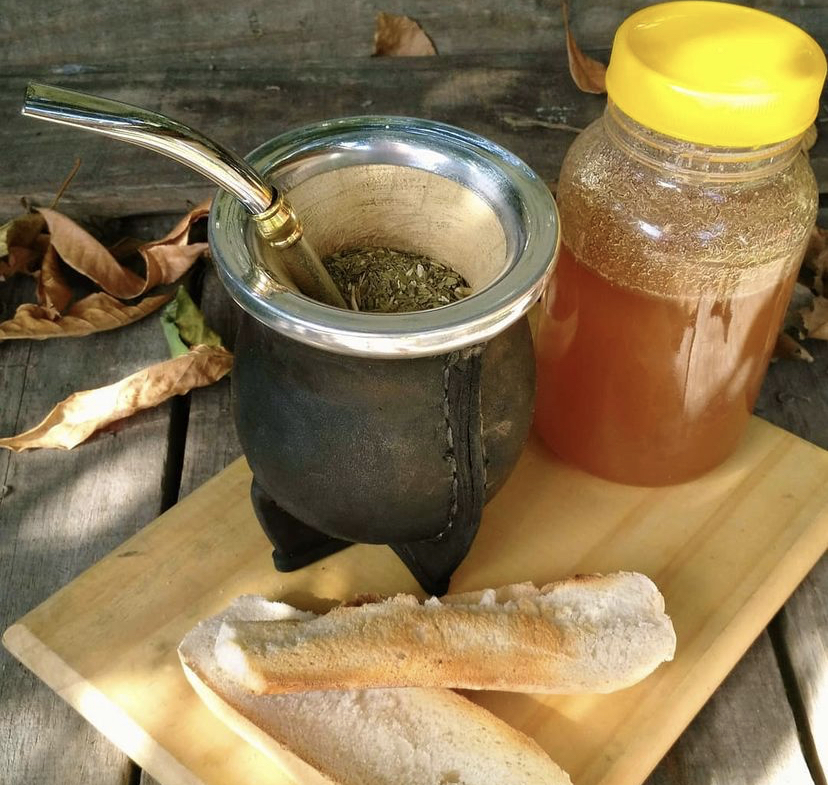calabaza: (205, 111, 560, 621)
mate: (202, 109, 562, 612)
